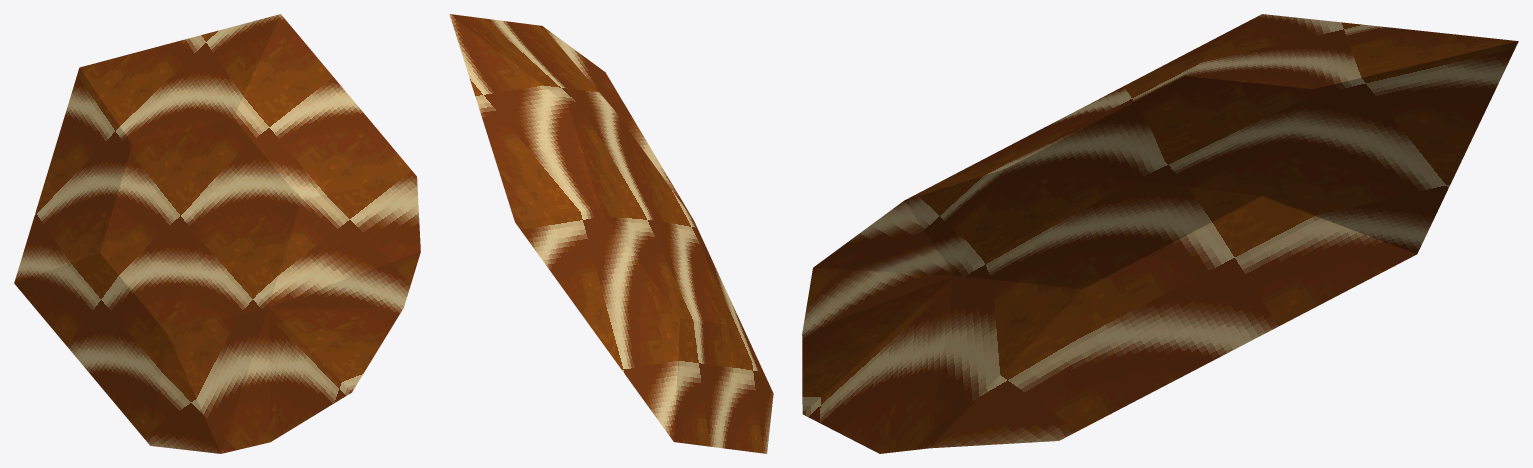
3 renders of one model, left to right at view 1: azimuth 30°, elevation 25°; view 2: azimuth 150°, elevation 25°; view 3: azimuth 270°, elevation 25°, orthographic. The views are drawn at different scales.
Parts seen in each view (by area): view 1: ef_668; view 2: ef_668; view 3: ef_668.
Part boxes in pixels (box(x1,y1,x2,y2)): ef_668: box(14, 14, 420, 453); ef_668: box(449, 14, 773, 453); ef_668: box(802, 14, 1518, 453).
Size of the model in its own units: 0.2357 by 0.3045 by 0.3379.
Materials: 1 (1 with a texture image).
